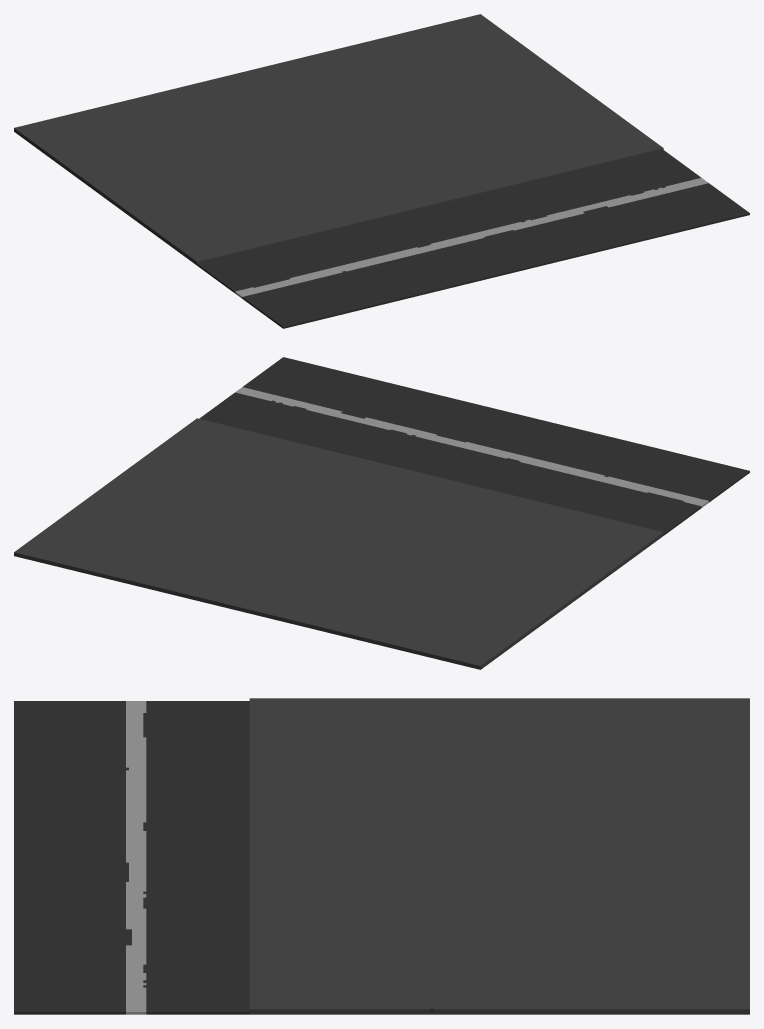
The model's file is drzewko-60.obj.
3 renders of one model, top to bottom at view 1: azimuth 30°, elevation 25°; view 2: azimuth 150°, elevation 25°; view 3: azimuth 270°, elevation 25°, orthographic. The views are drawn at different scales.
Size of the model in its own units: 25.6 by 0.2 by 25.6.
Materials: 1 (1 with a texture image).
